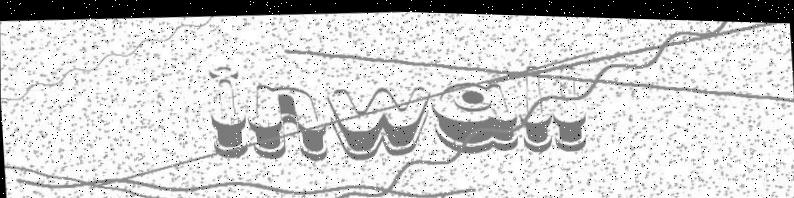a: (430, 75, 520, 154)
i: (204, 62, 249, 159)
l: (548, 55, 588, 150), (518, 61, 554, 152)
n: (246, 78, 329, 163)
w: (325, 79, 433, 163)
